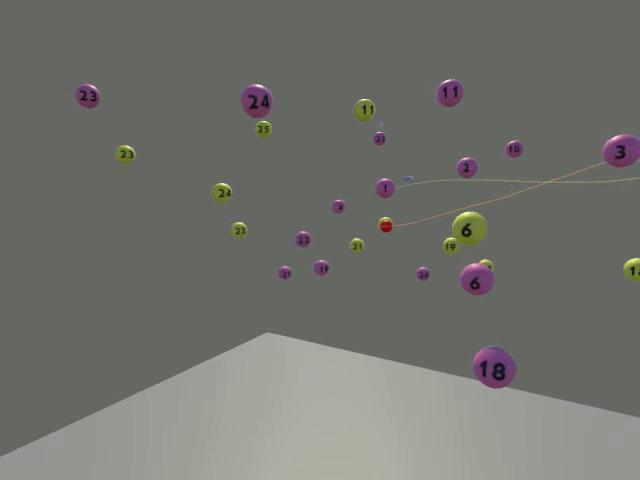ball_01_pink: (375, 179, 394, 198)
ball_02_pink: (456, 156, 477, 178)
ball_03_pink: (602, 133, 639, 167)
ball_04_pink: (330, 200, 345, 215)
ball_06_pink: (459, 262, 493, 295)
ball_06_yellow: (451, 210, 487, 245)
ball_10_pink: (504, 140, 523, 157)
ball_11_pink: (436, 79, 463, 106)
ball_11_yellow: (353, 98, 375, 122)
ball_18_pink: (472, 346, 516, 388)
ball_19_pink: (314, 260, 329, 276)
ball_19_yellow: (442, 236, 459, 254)
ball_20_pink: (415, 267, 430, 281)
ball_21_pink: (277, 266, 292, 280)
ball_21_yellow: (349, 237, 364, 253)
ball_22_pink: (295, 231, 311, 247)
ball_22_yellow: (230, 221, 248, 239)
ball_23_pink: (74, 83, 101, 108)
ball_23_yellow: (114, 144, 136, 164)
ball_24_pink: (240, 85, 272, 118)
ball_24_yellow: (211, 182, 233, 204)
ball_25_pink: (373, 132, 386, 146)
ball_25_yellow: (255, 120, 272, 137)
ball_unknown: (623, 257, 639, 280), (478, 258, 493, 271), (380, 216, 392, 222)
user_cursor: (380, 221, 392, 232)
